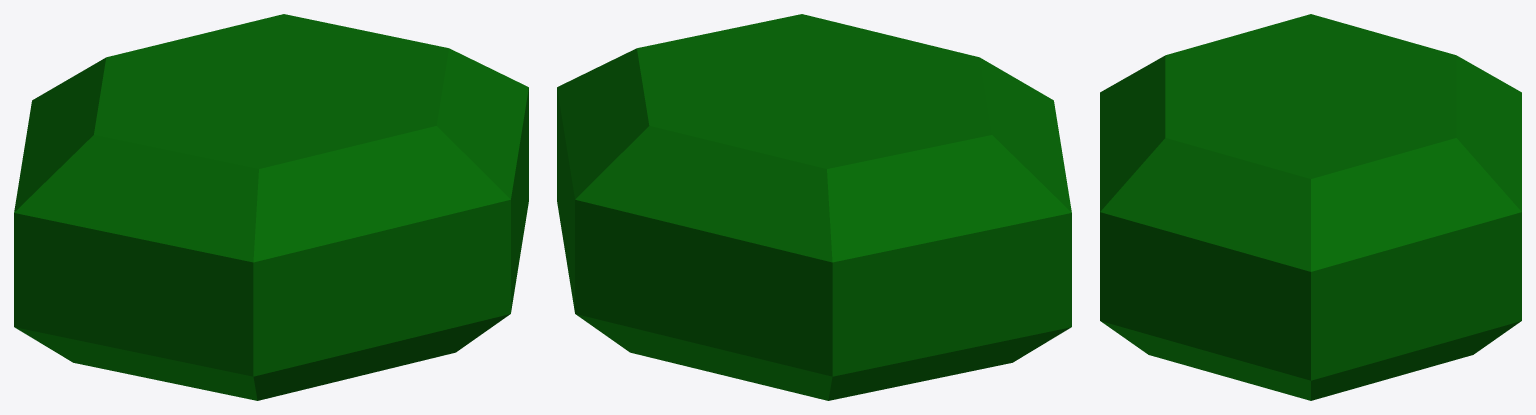
The model's file is Vegetation_Modular_New_Bush_Shrub_Geometric_03.FBX.
The picture shows the model from 3 angles, left to right: view 1: azimuth 30°, elevation 25°; view 2: azimuth 150°, elevation 25°; view 3: azimuth 270°, elevation 25°; orthographic projection. The views are drawn at different scales.
Visible parts, largest first — view 1: Vegetation_Modular_New_Bush_Shrub_Geometric_03; view 2: Vegetation_Modular_New_Bush_Shrub_Geometric_03; view 3: Vegetation_Modular_New_Bush_Shrub_Geometric_03.
Part boxes in pixels (x1,y1,x2,y2): Vegetation_Modular_New_Bush_Shrub_Geometric_03: [14, 14, 528, 400]; Vegetation_Modular_New_Bush_Shrub_Geometric_03: [557, 14, 1071, 400]; Vegetation_Modular_New_Bush_Shrub_Geometric_03: [1100, 14, 1521, 400].
Bounding box in the file's own units: 4031 × 1667 × 3002.
